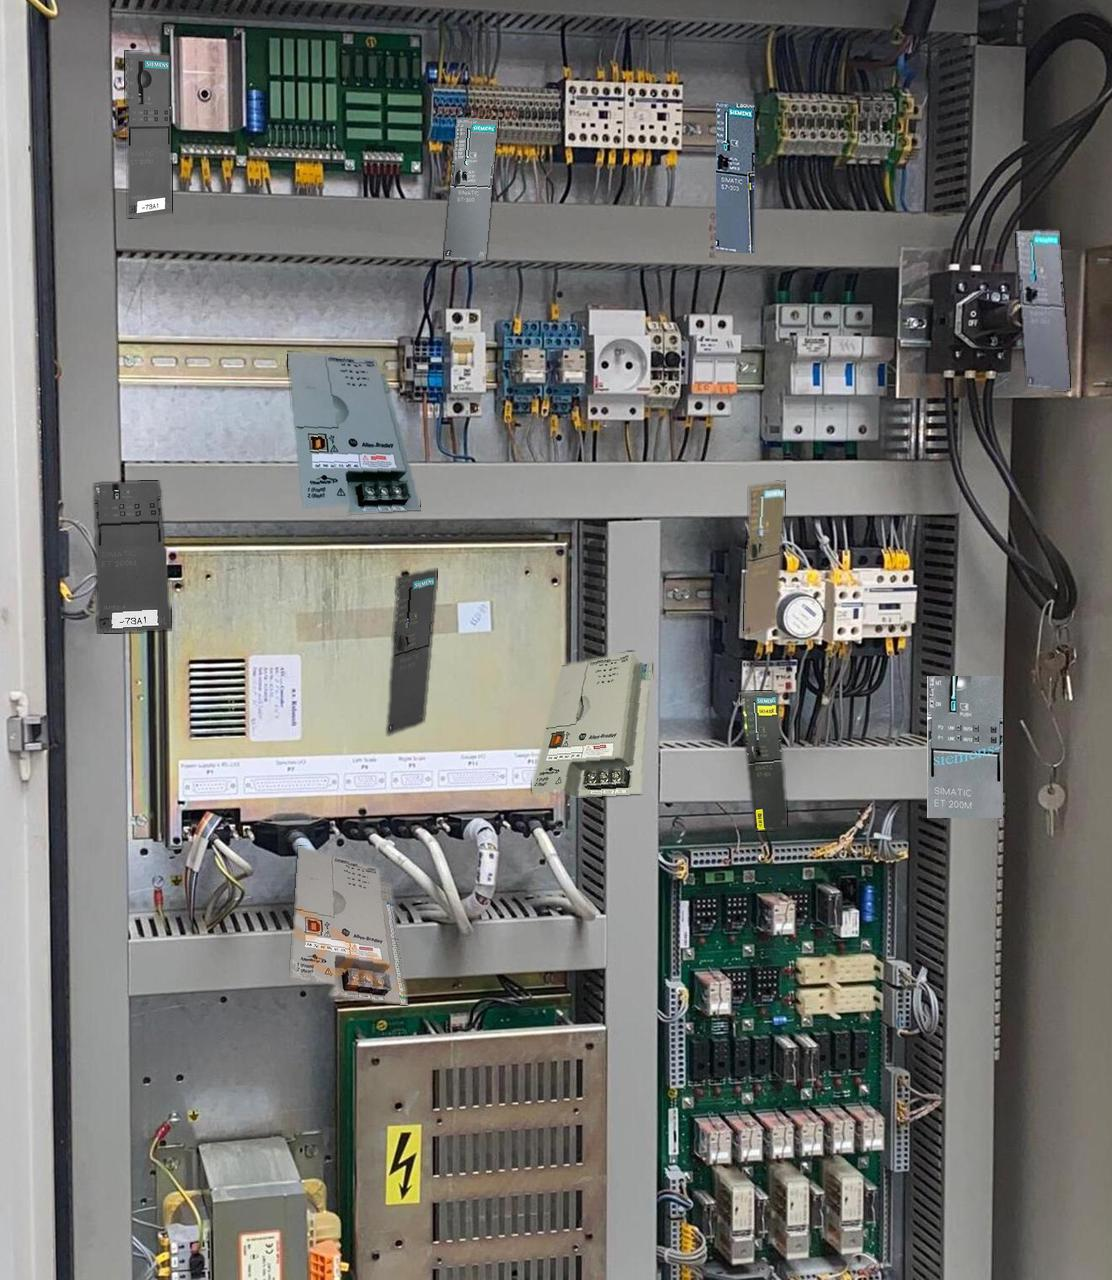AllenBradley: (287, 352, 420, 513), (291, 846, 407, 1004), (532, 652, 651, 796)
Siemens: (1015, 230, 1070, 390), (387, 569, 436, 734), (444, 116, 497, 260), (740, 690, 786, 830), (743, 482, 784, 637), (716, 100, 754, 253)
